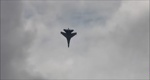maybay_muctieu: (60, 28, 76, 49)
